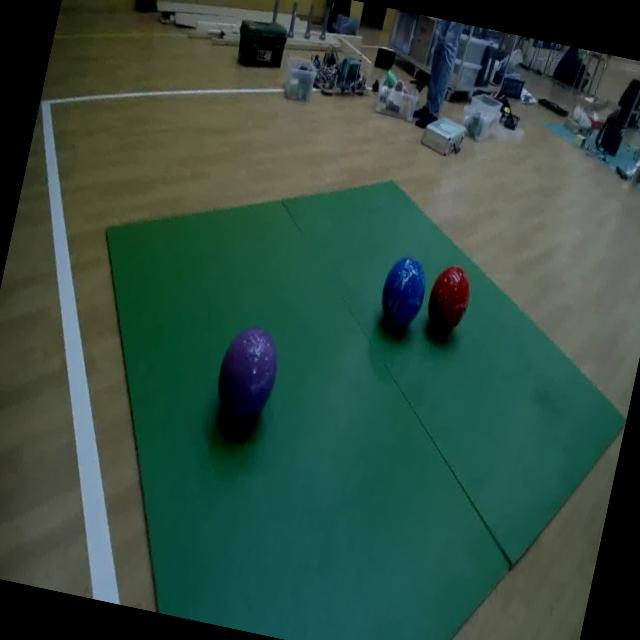blue_ball: (374, 253, 431, 332)
purple_ball: (210, 324, 284, 428)
red_ball: (424, 262, 474, 336)
